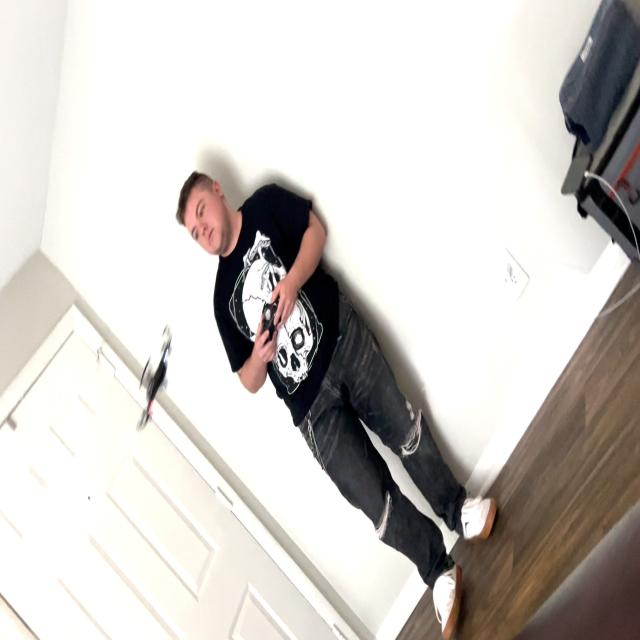drone: (130, 316, 178, 439)
